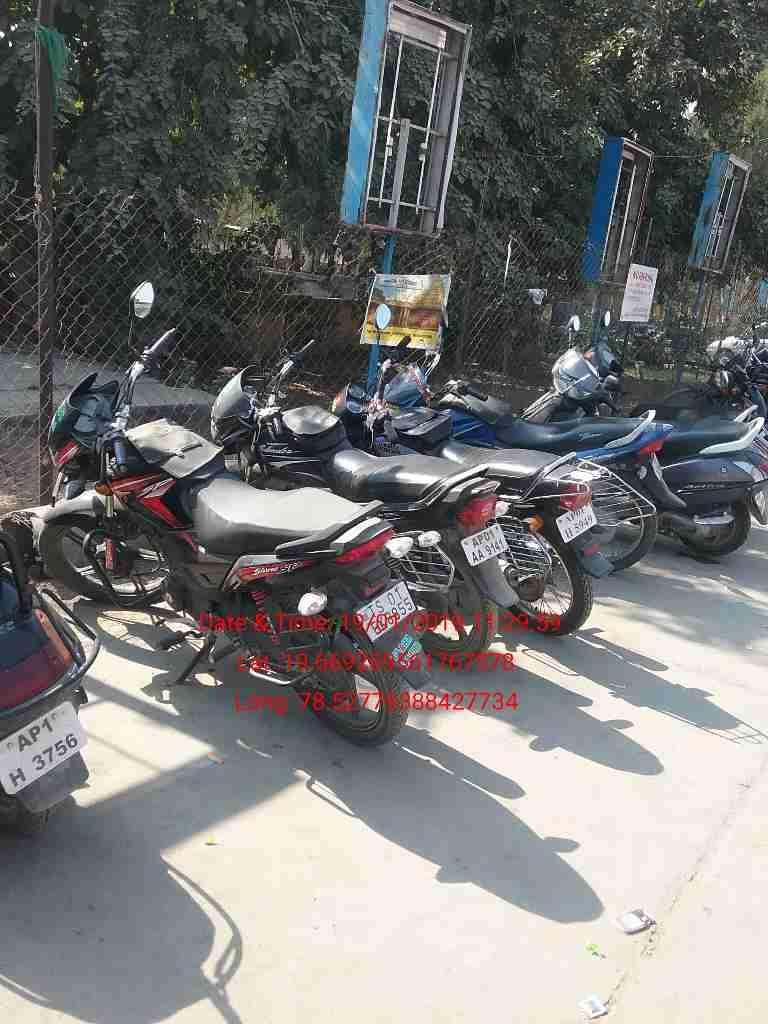plate: (1, 703, 90, 796), (457, 519, 513, 564), (549, 502, 604, 546)
